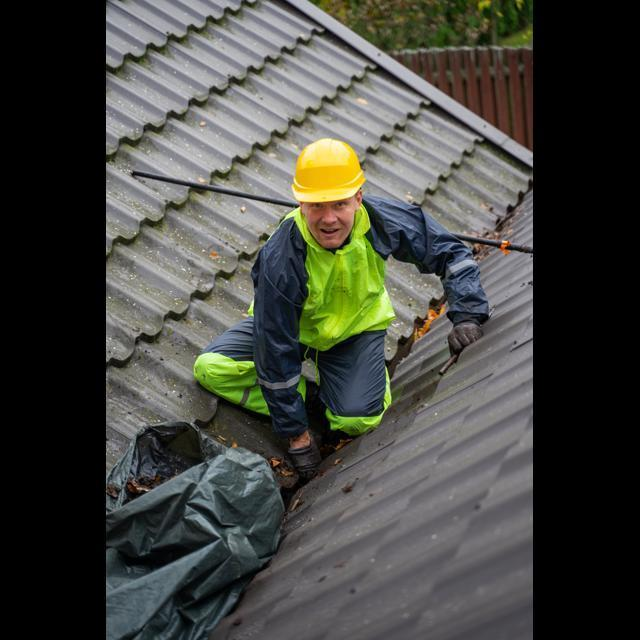Capacete: (292, 138, 365, 201)
Pessoa: (194, 138, 488, 479)
